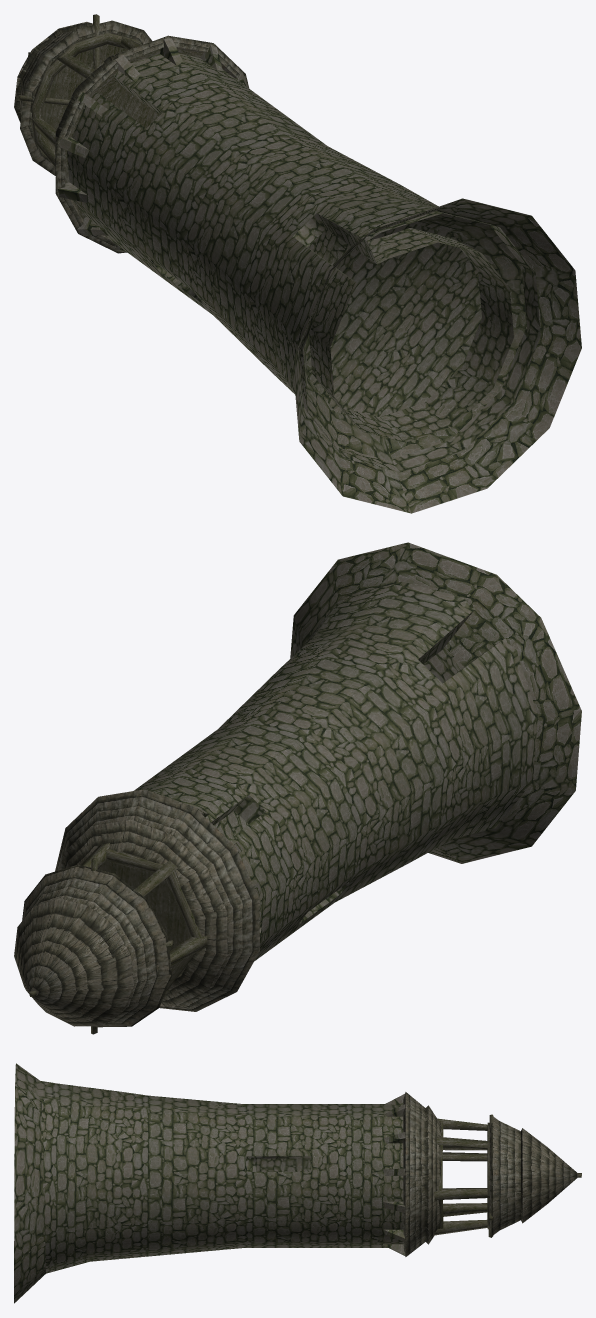
File: TI_Tower_01_LOD_02.fbx
3 views of the same model, one above another, from view 1: azimuth 30°, elevation 25°; view 2: azimuth 150°, elevation 25°; view 3: azimuth 270°, elevation 25° (orthographic). The views are drawn at different scales.
Parts seen in each view (by area): view 1: TI_Tower_Wall_LOD_02, TI_Tower_Roof_LOD_02, TI_Tower_WFrame_LOD_02; view 2: TI_Tower_Wall_LOD_02, TI_Tower_Roof_LOD_02, TI_Tower_WFrame_LOD_02; view 3: TI_Tower_Wall_LOD_02, TI_Tower_Roof_LOD_02, TI_Tower_WFrame_LOD_02.
Boxes of the visible parts, x1,y1,x2,y2 form: TI_Tower_Wall_LOD_02: (58, 38, 581, 513); TI_Tower_Roof_LOD_02: (14, 20, 249, 253); TI_Tower_WFrame_LOD_02: (18, 14, 223, 219); TI_Tower_Wall_LOD_02: (134, 542, 581, 961); TI_Tower_Roof_LOD_02: (14, 789, 259, 1027); TI_Tower_WFrame_LOD_02: (29, 843, 207, 1034); TI_Tower_Wall_LOD_02: (14, 1063, 405, 1303); TI_Tower_Roof_LOD_02: (403, 1092, 578, 1256); TI_Tower_WFrame_LOD_02: (434, 1114, 581, 1237).
Size of the model in its own units: 17.81 by 17.81 by 42.86.
